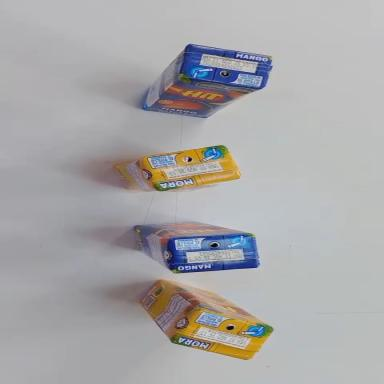HIT-MANGO: (142, 38, 274, 128), (135, 217, 259, 275)
HIT-MORA: (134, 276, 278, 367), (114, 142, 241, 199)
cara_F: (144, 72, 262, 127), (157, 280, 278, 329), (137, 219, 253, 240)
